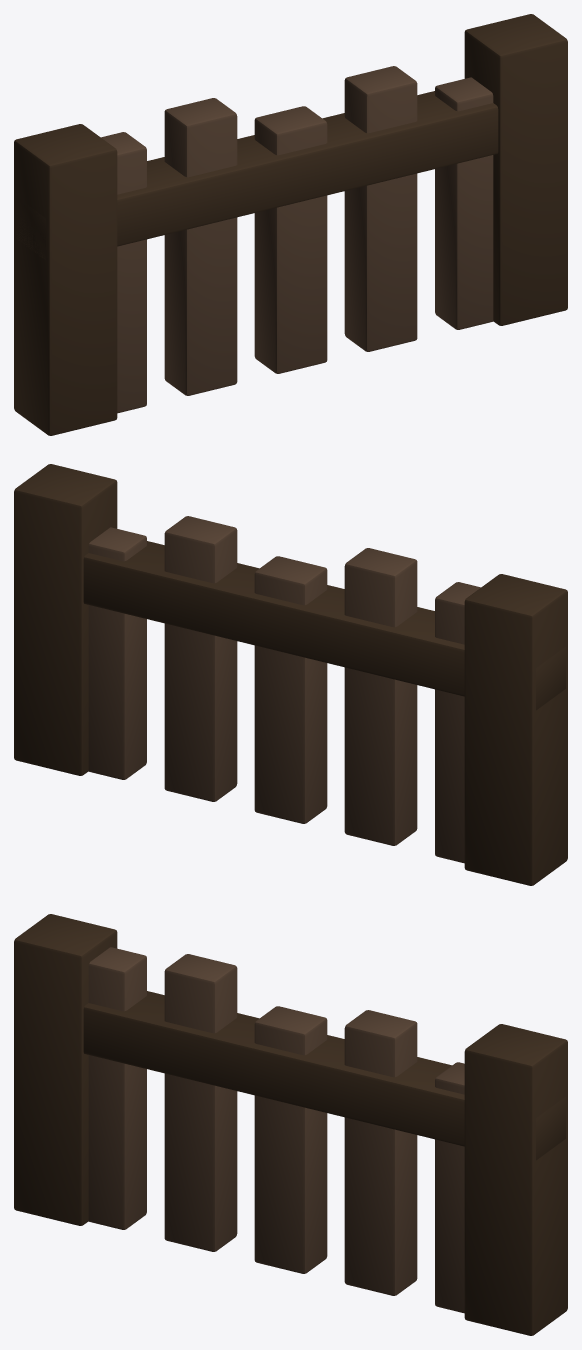
The model's file is proving-floor_cover_1.glb.
3 views of the same model, one above another, from view 1: azimuth 30°, elevation 25°; view 2: azimuth 150°, elevation 25°; view 3: azimuth 330°, elevation 25° (orthographic).
Parts seen in each view (by area): view 1: barricade; view 2: barricade; view 3: barricade.
Boxes of the visible parts, bbox=[...] form: barricade: bbox=[14, 14, 567, 435]; barricade: bbox=[14, 464, 567, 885]; barricade: bbox=[14, 914, 567, 1335].
Size of the model in its own units: 0.9 by 0.45 by 0.11.
